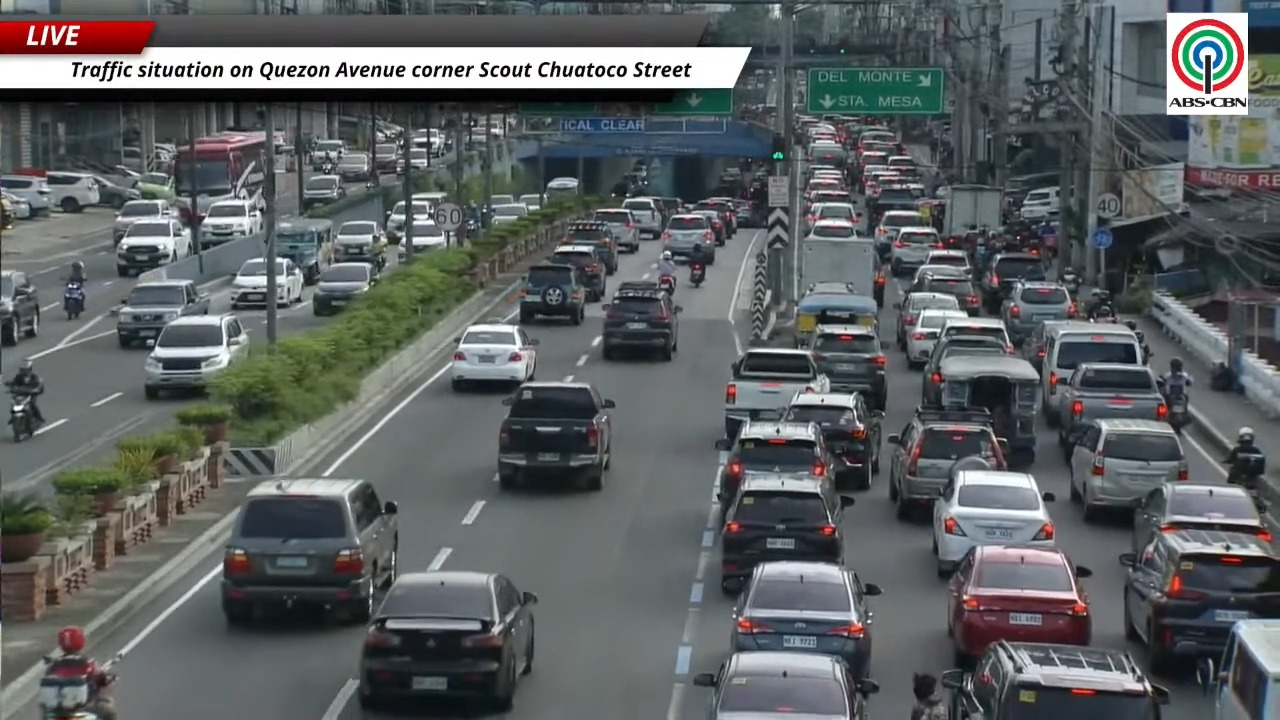bus: (1197, 619, 1279, 719), (174, 131, 266, 214)
car: (221, 478, 398, 624), (357, 571, 537, 712), (1119, 529, 1279, 671), (940, 641, 1169, 719), (947, 542, 1092, 665), (731, 561, 882, 678), (719, 473, 854, 593), (886, 406, 1006, 519), (932, 470, 1055, 576), (694, 651, 879, 719), (1067, 418, 1188, 520), (716, 421, 832, 515), (781, 392, 883, 489), (1131, 482, 1271, 551), (144, 315, 247, 399), (809, 324, 887, 410), (601, 281, 682, 360), (116, 279, 209, 347), (921, 335, 1008, 403), (450, 324, 537, 389), (1001, 280, 1076, 344), (115, 217, 192, 276), (519, 262, 586, 324), (980, 252, 1046, 314), (894, 292, 960, 350), (905, 309, 967, 369), (911, 266, 980, 316), (312, 262, 377, 315), (549, 244, 606, 301), (199, 200, 262, 249), (0, 270, 40, 345), (563, 220, 618, 274), (332, 221, 387, 274), (661, 214, 715, 264), (939, 317, 1014, 353), (873, 210, 928, 259), (112, 199, 172, 243), (889, 225, 940, 276), (1020, 321, 1070, 371), (44, 171, 100, 212), (397, 216, 448, 259), (0, 175, 52, 215), (592, 208, 639, 252), (230, 257, 269, 309), (386, 199, 431, 242), (335, 220, 389, 254), (91, 174, 140, 209), (694, 197, 736, 237), (905, 261, 955, 292), (302, 175, 345, 209), (689, 209, 726, 245), (806, 202, 860, 226), (134, 173, 176, 202), (335, 152, 372, 182), (311, 139, 346, 170), (0, 190, 32, 221), (805, 220, 857, 239), (806, 189, 849, 211), (490, 202, 528, 225), (805, 281, 857, 294), (516, 193, 543, 211), (490, 195, 515, 205), (394, 153, 405, 175)
motorcycle: (37, 656, 104, 719), (1227, 448, 1265, 499), (1157, 380, 1190, 434), (8, 388, 36, 442), (1124, 320, 1152, 364), (63, 280, 85, 319), (1061, 269, 1081, 298), (690, 262, 705, 287), (658, 275, 675, 295), (321, 160, 335, 174)
truck: (497, 381, 614, 490), (724, 348, 829, 439), (1059, 363, 1167, 446), (799, 236, 884, 306), (942, 184, 1003, 237), (622, 197, 663, 239)
